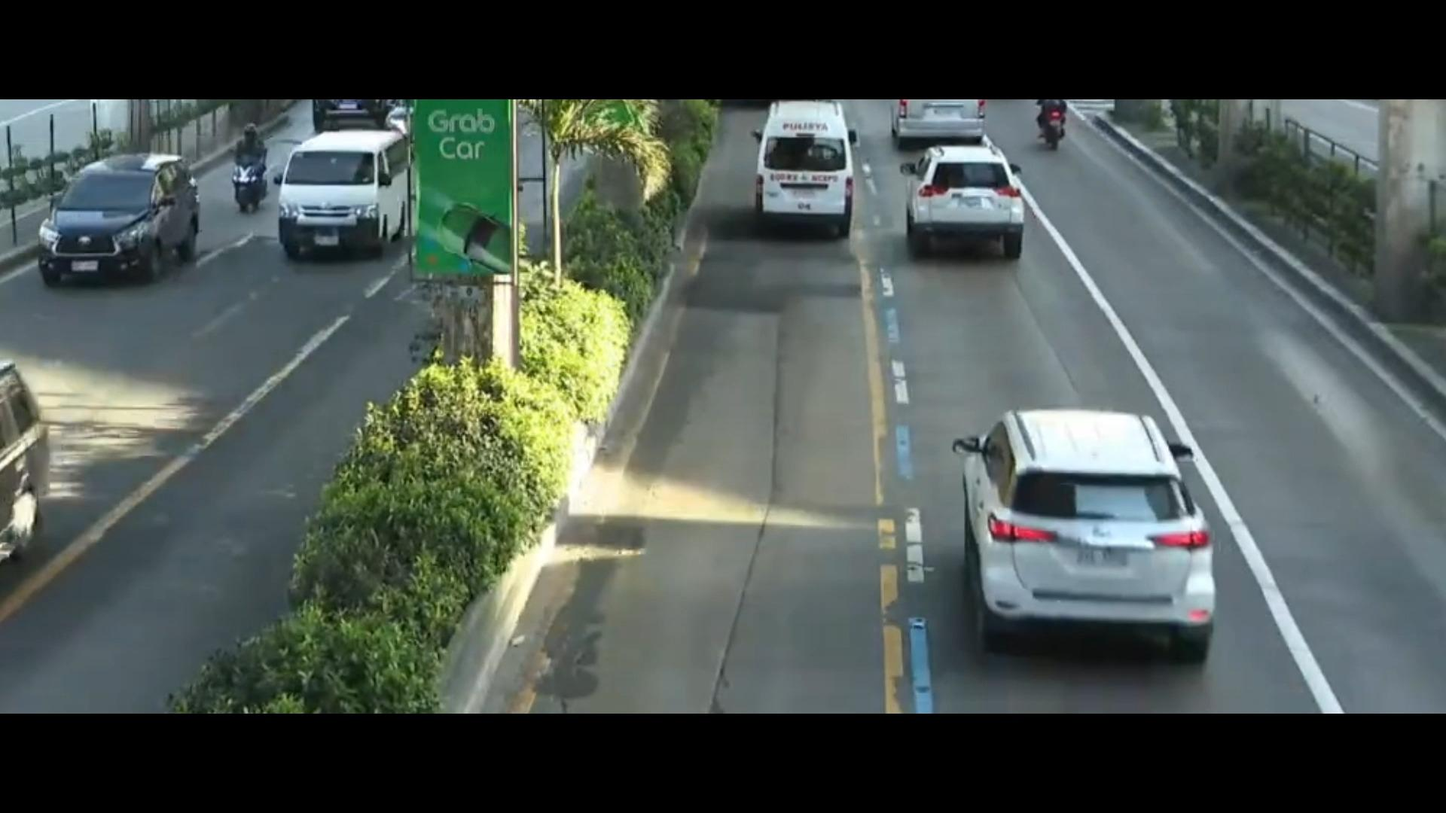Motorcycle: (224, 111, 273, 217), (1032, 102, 1072, 147)
SUV: (923, 386, 1253, 647), (41, 132, 204, 302), (901, 130, 1032, 271)
Van: (275, 128, 414, 264), (742, 107, 869, 239)
